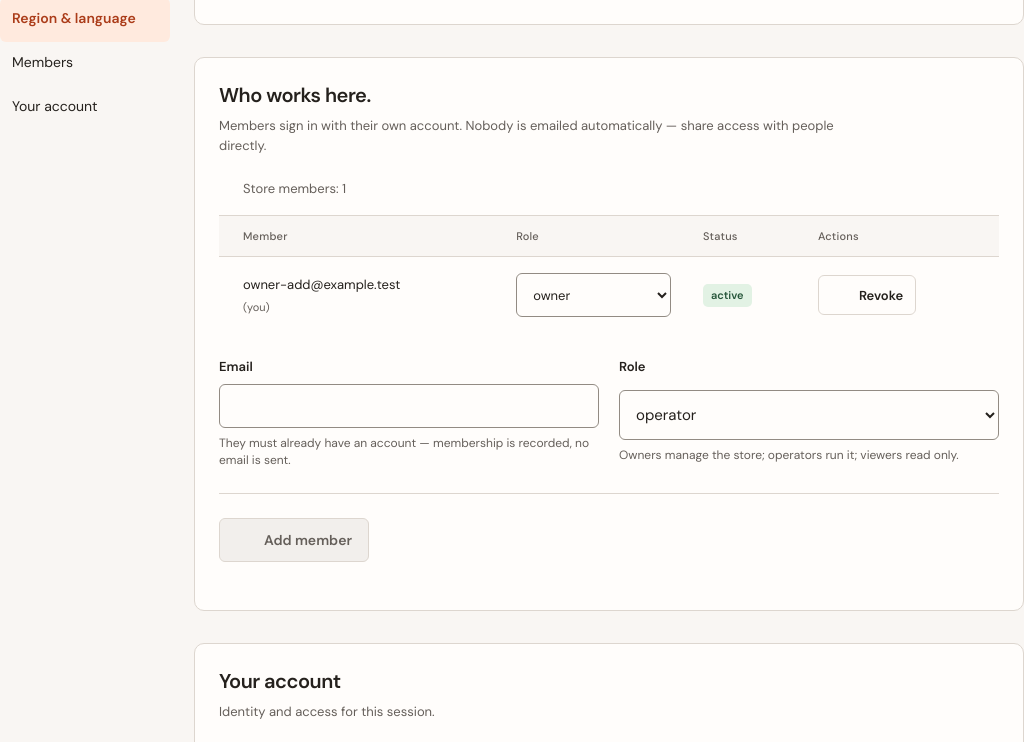
settings store members (owner-managed) › adds a member, shows the no-email-sent message and the new row
(page scrolled)
Type "teammate-add@example.test" into the field labelled "Email" at x=409, y=406, box [219,384,599,428]
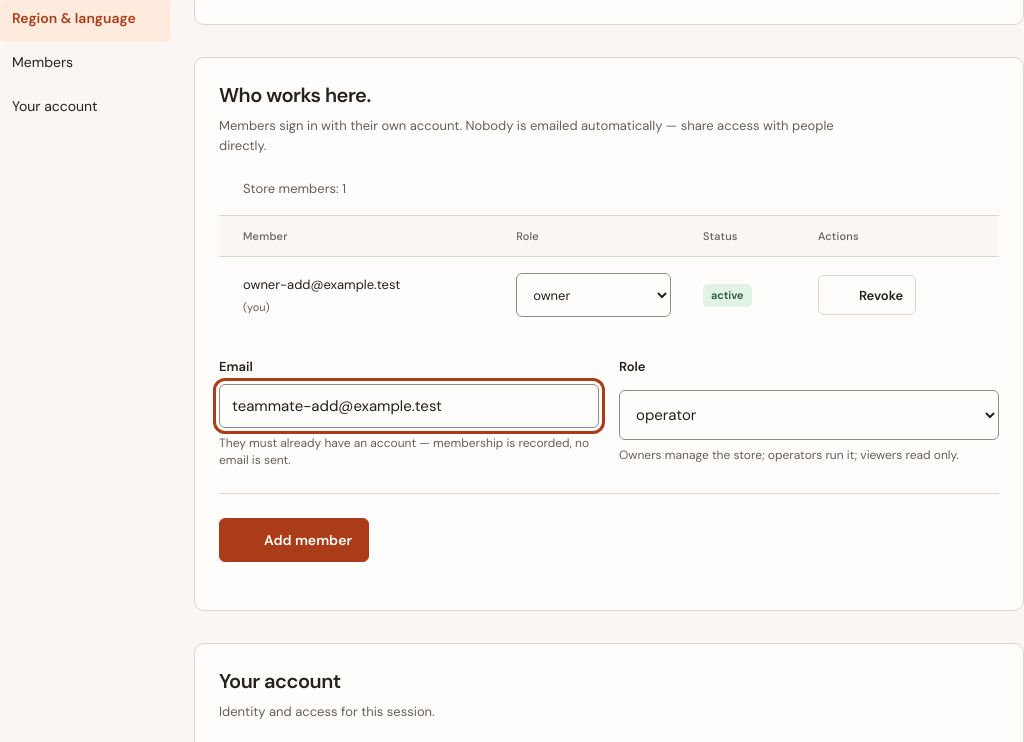
Select "viewer" in the dropdown labelled "Role" at x=809, y=415, box [619,390,999,440]
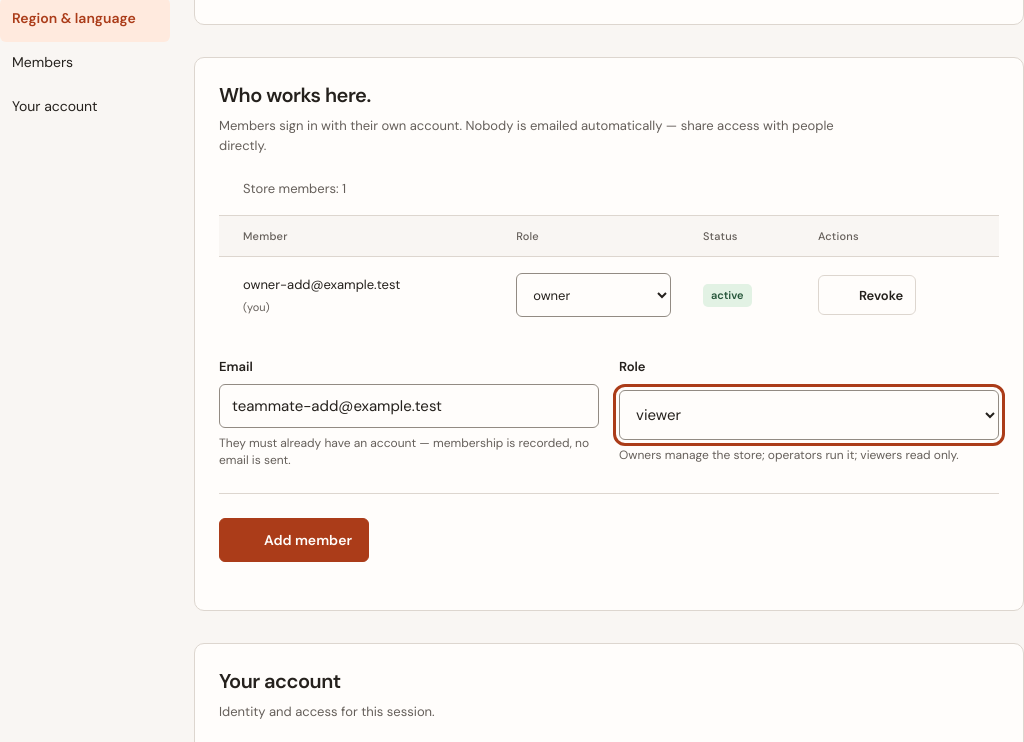
Click the button "Add member" at x=294, y=540, box [219,518,369,562]
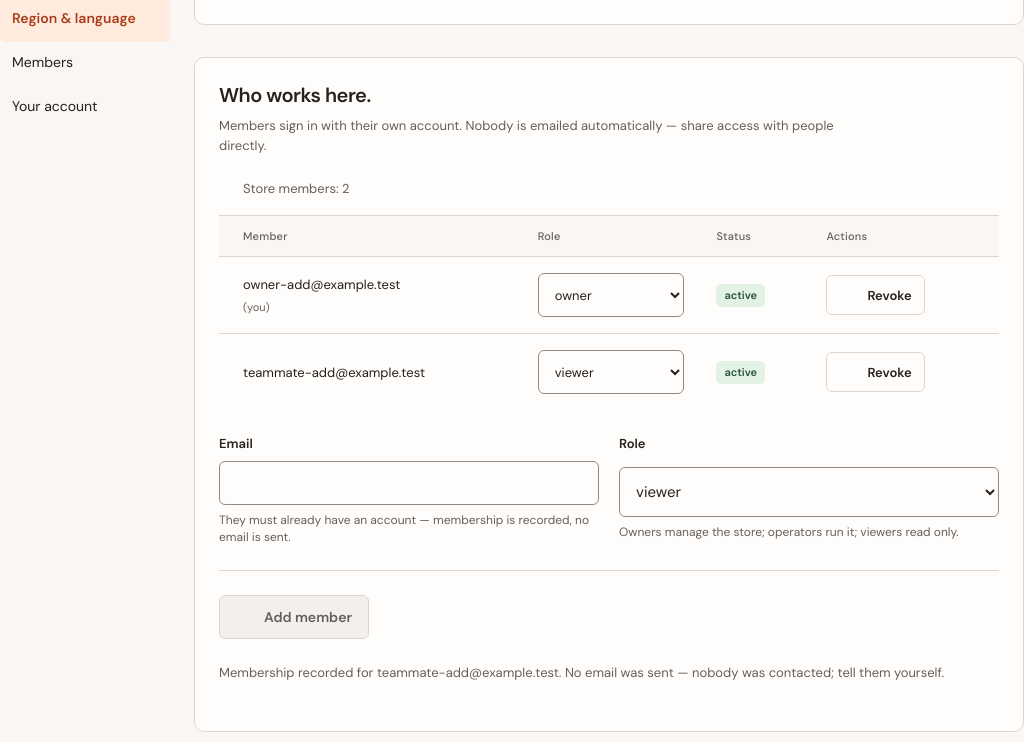
Expected: the text "No email was sent — nobody was contacted" is shown, [219,664,944,681]
Expected: the text "teammate-add@example.test" is shown, [219,334,522,410]
